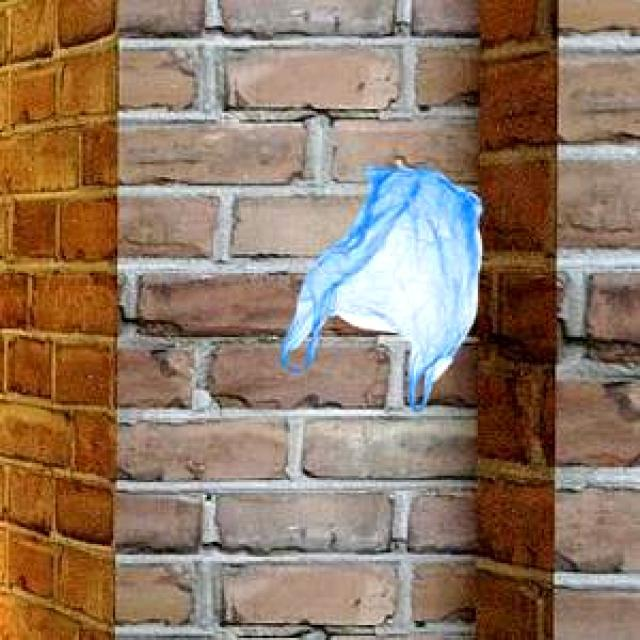Plastic_Bag: (278, 165, 479, 408)
